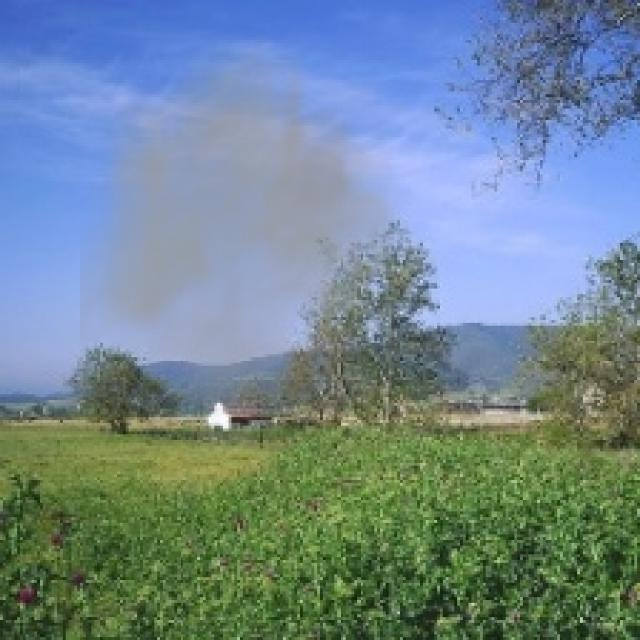smoke: (80, 29, 434, 420)
